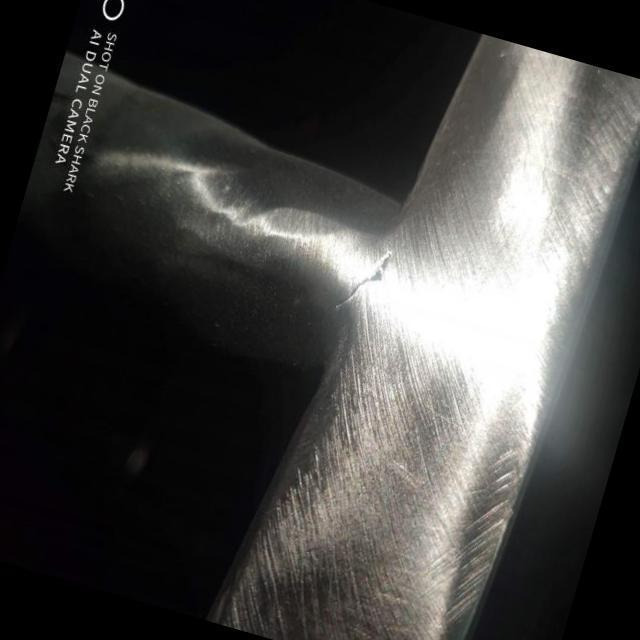defect: (331, 250, 392, 310)
